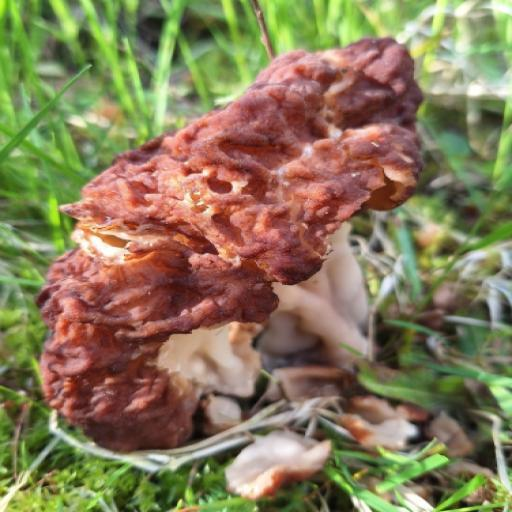mushroom: (48, 35, 425, 456)
